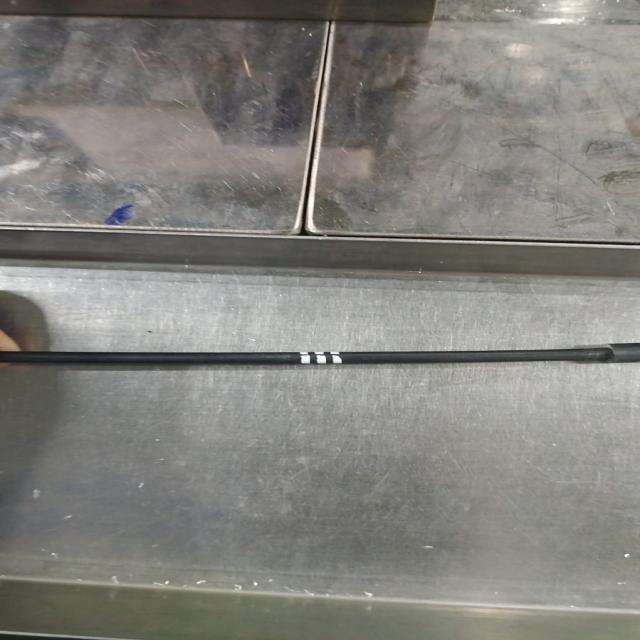white: (295, 352, 347, 366)
